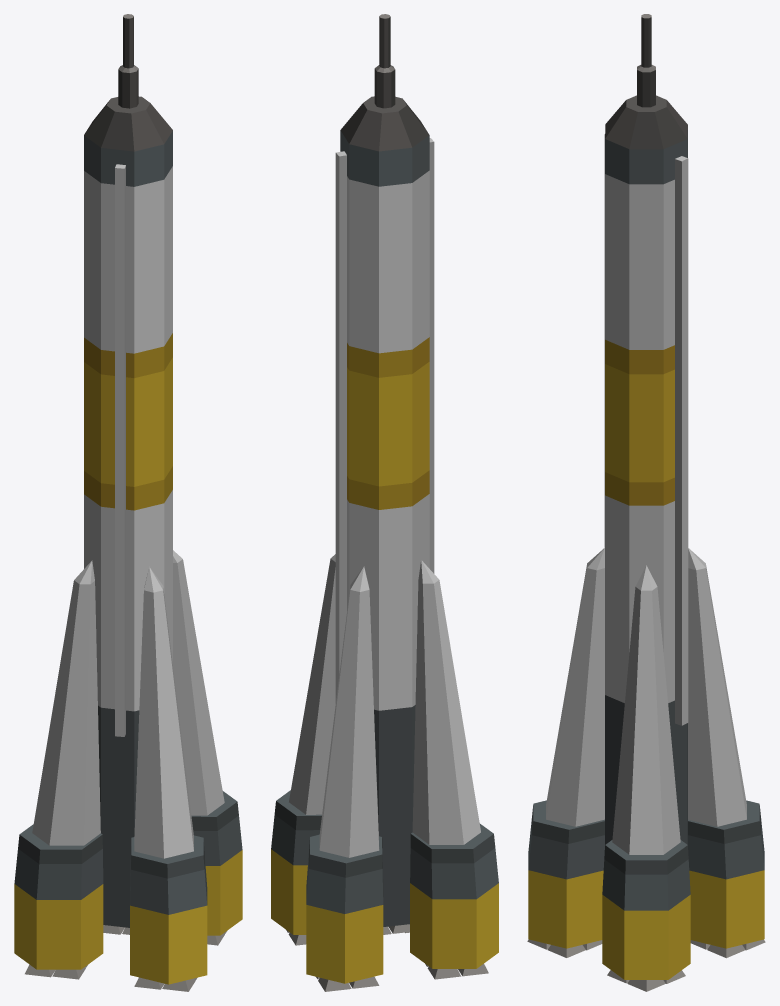
Rendered from SM_Veh_Rocket_03.fbx.
3 renders of one model, left to right at view 1: azimuth 30°, elevation 25°; view 2: azimuth 150°, elevation 25°; view 3: azimuth 270°, elevation 25°, orthographic.
Visible parts, largest first — view 1: SM_Veh_Rocket_03; view 2: SM_Veh_Rocket_03; view 3: SM_Veh_Rocket_03.
Boxes of the visible parts, box(x1,y1,x2,y2) form: SM_Veh_Rocket_03: box(14, 14, 242, 991); SM_Veh_Rocket_03: box(271, 14, 498, 991); SM_Veh_Rocket_03: box(527, 14, 765, 991).
Bounding box in the file's own units: 2.63 × 11.25 × 2.63.
